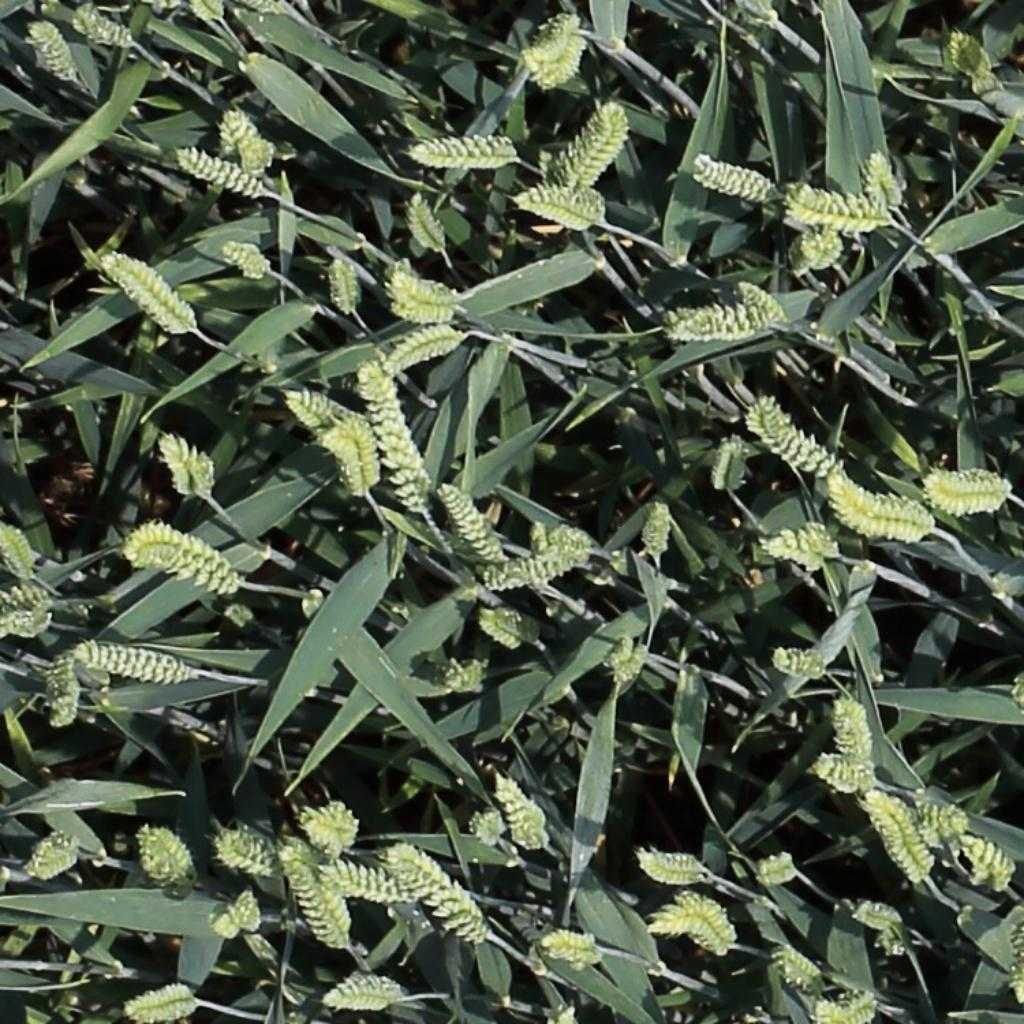0-0: (359, 356, 435, 517), (284, 374, 401, 461), (114, 528, 253, 598), (554, 96, 646, 197), (393, 846, 487, 942), (278, 839, 350, 954), (102, 251, 192, 331), (752, 401, 843, 480), (866, 789, 939, 887), (461, 543, 593, 596), (935, 19, 1010, 112), (828, 473, 929, 537), (436, 476, 507, 566), (642, 890, 737, 947), (929, 462, 1013, 525), (663, 300, 768, 348), (413, 122, 514, 170), (152, 427, 219, 496), (790, 185, 885, 232), (495, 774, 551, 853), (325, 415, 380, 493), (177, 147, 266, 195), (529, 12, 587, 81), (379, 325, 466, 371), (517, 192, 613, 233), (75, 648, 193, 681), (25, 16, 80, 86), (222, 102, 274, 176), (390, 270, 467, 319), (692, 154, 776, 197), (777, 226, 841, 282), (835, 692, 875, 778), (303, 799, 369, 851), (910, 790, 970, 846), (528, 516, 606, 559), (961, 835, 1017, 894), (438, 655, 505, 704), (141, 824, 193, 887), (405, 185, 451, 256), (49, 632, 81, 734), (124, 980, 205, 1019), (638, 840, 715, 880), (866, 141, 907, 215), (323, 872, 420, 903), (217, 835, 282, 879), (0, 513, 38, 587), (737, 274, 793, 324), (0, 589, 53, 640), (748, 841, 801, 892), (326, 974, 405, 1006), (327, 245, 361, 319), (72, 8, 136, 47), (767, 525, 836, 561), (537, 927, 600, 966), (1000, 918, 1024, 1013), (802, 994, 877, 1024), (714, 428, 746, 496), (775, 946, 828, 987), (481, 610, 535, 648), (812, 760, 869, 796), (644, 495, 673, 563), (27, 836, 75, 877), (221, 238, 270, 275), (608, 630, 640, 685), (469, 798, 500, 854), (233, 883, 262, 939), (774, 651, 828, 677), (850, 902, 905, 924), (883, 933, 920, 965), (192, 0, 228, 27), (1006, 665, 1024, 718)
